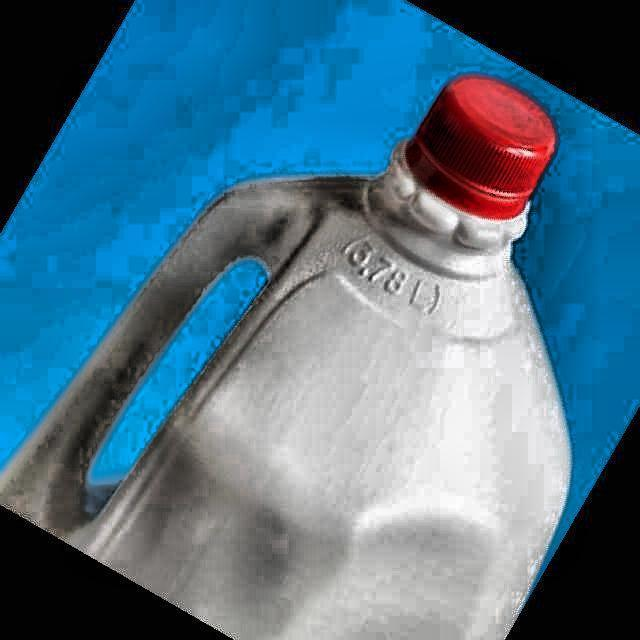plastic: (0, 75, 570, 640)
